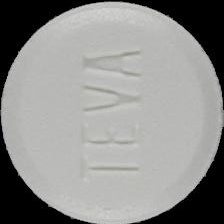76237-122: (0, 0, 224, 224)
